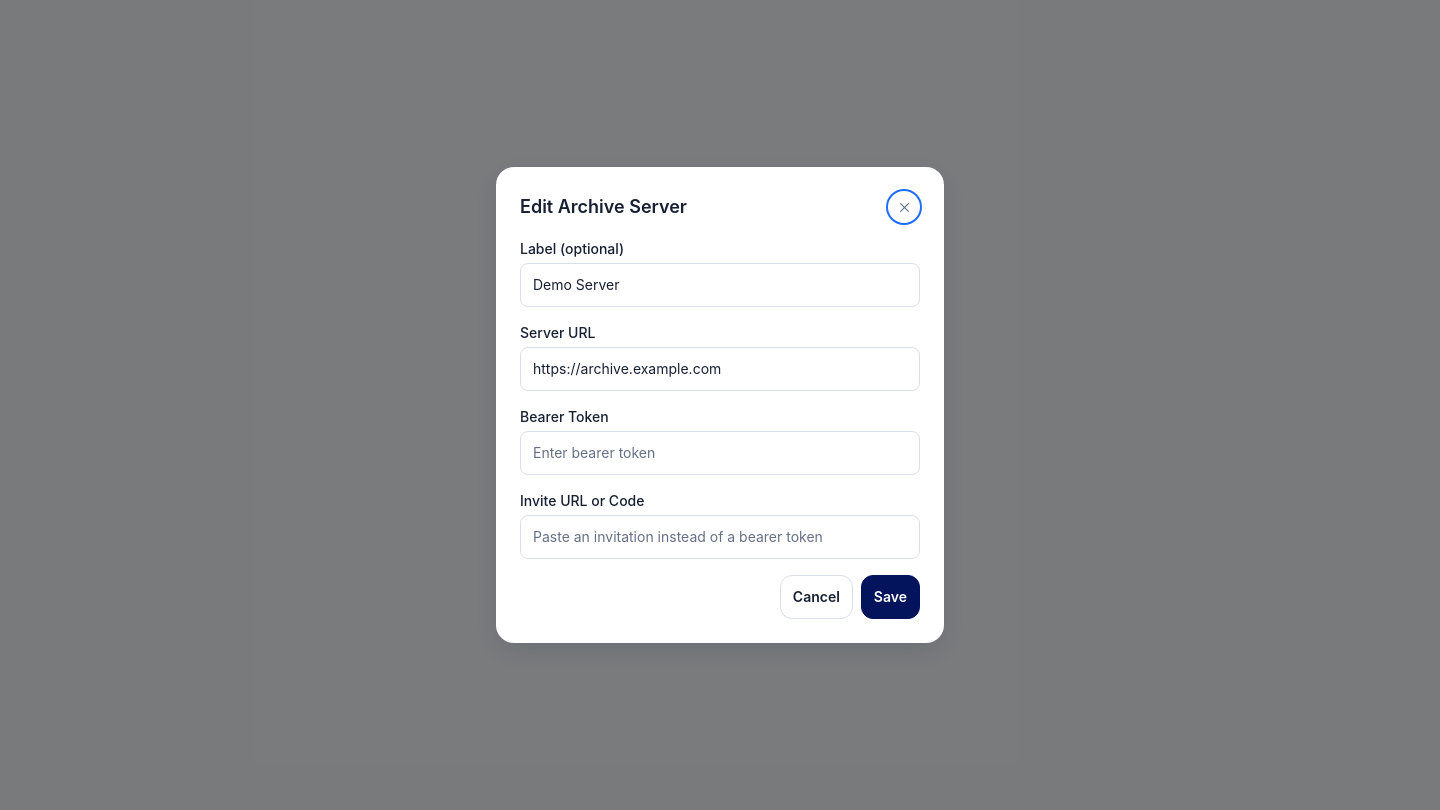
Test case: EditArchiveServerDialog › shows error when updateServer fails with Error
Step 1. Type "987654" into the password field labelled "Bearer Token" → (720, 453), box [520,431,920,475]
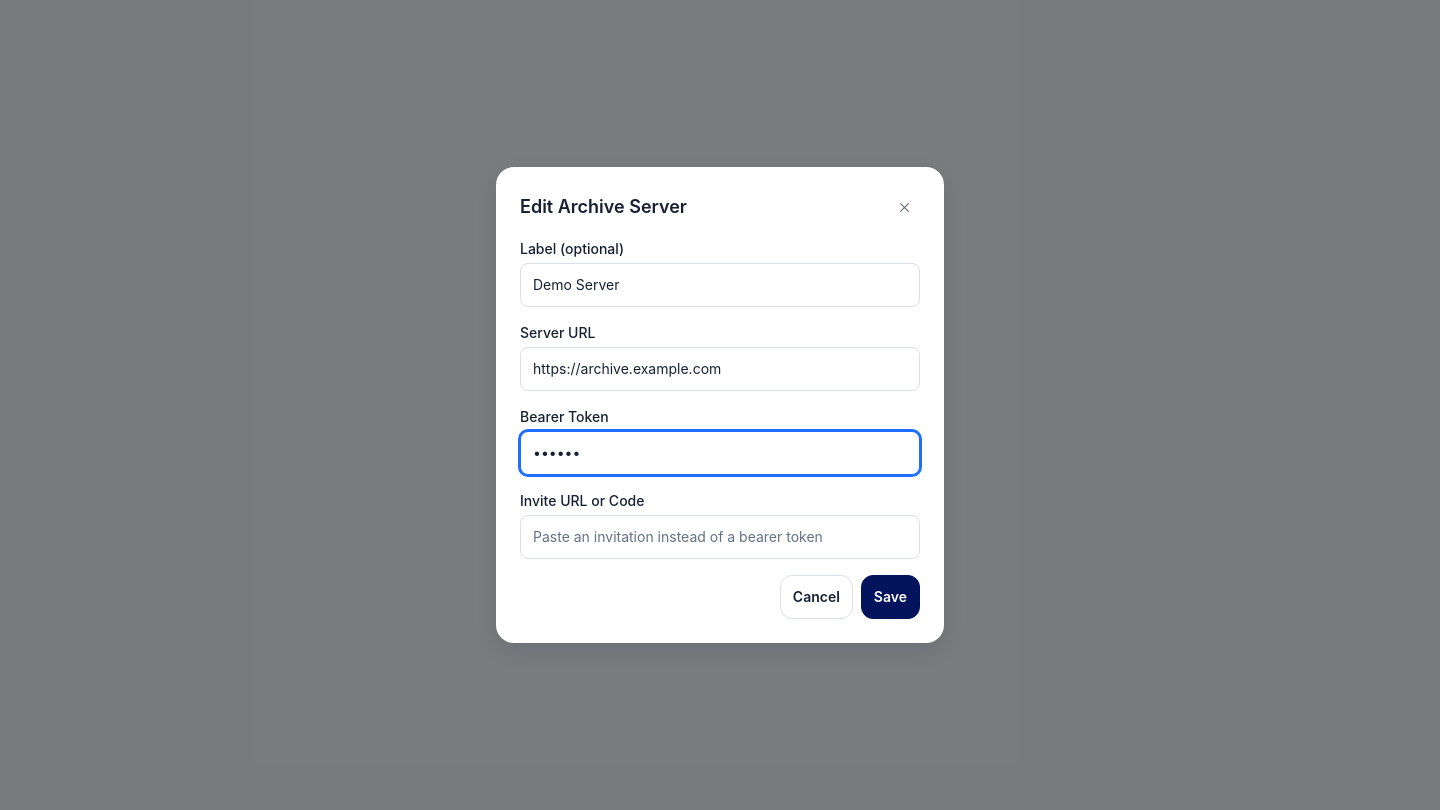
Step 2. Click the button "Save" → (890, 597), box [861,575,920,619]
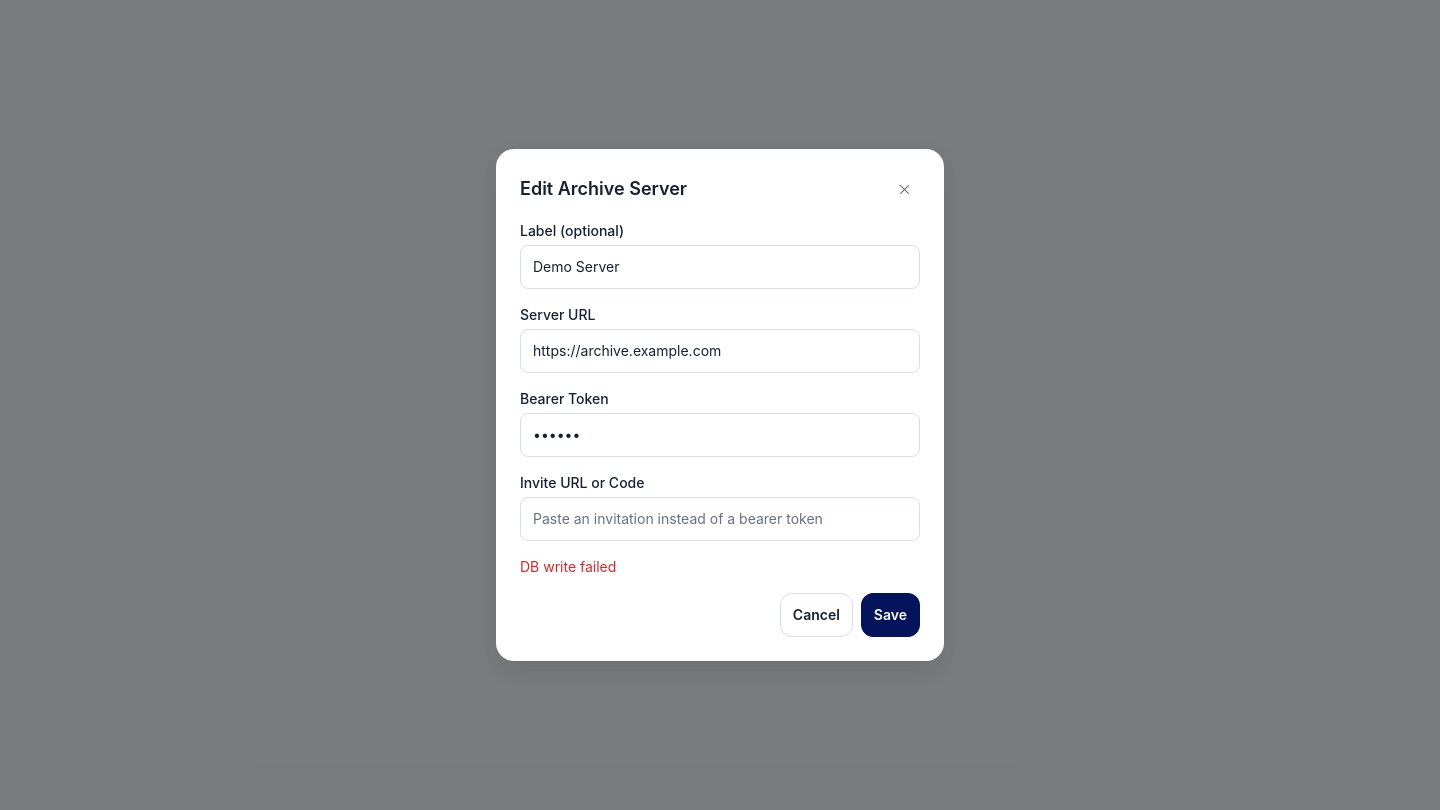
Expected: the text "DB write failed" is shown, [520,558,616,575]
